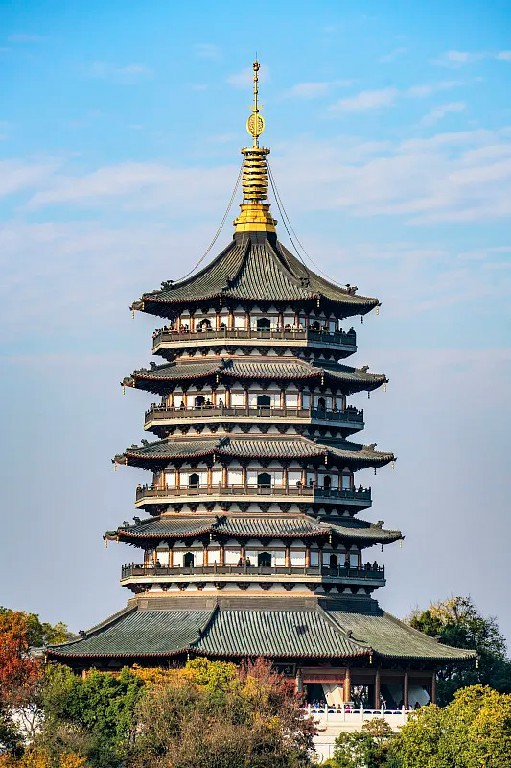Leifeng: (40, 48, 476, 705)
